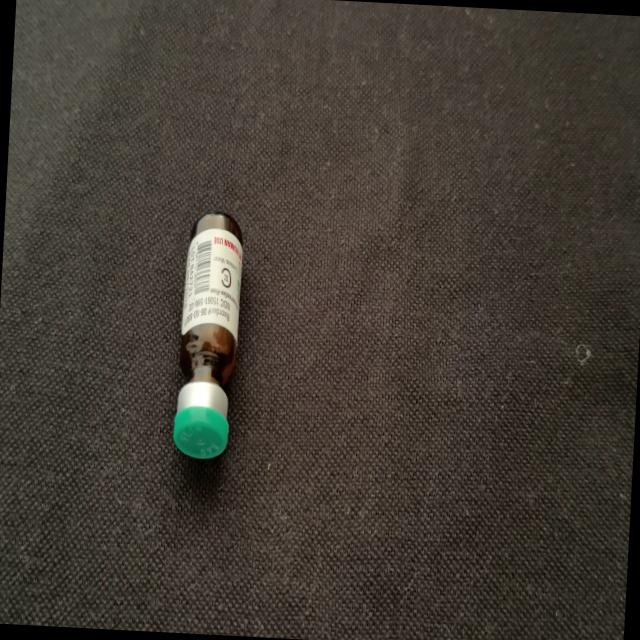midazolm: (172, 213, 245, 458)
